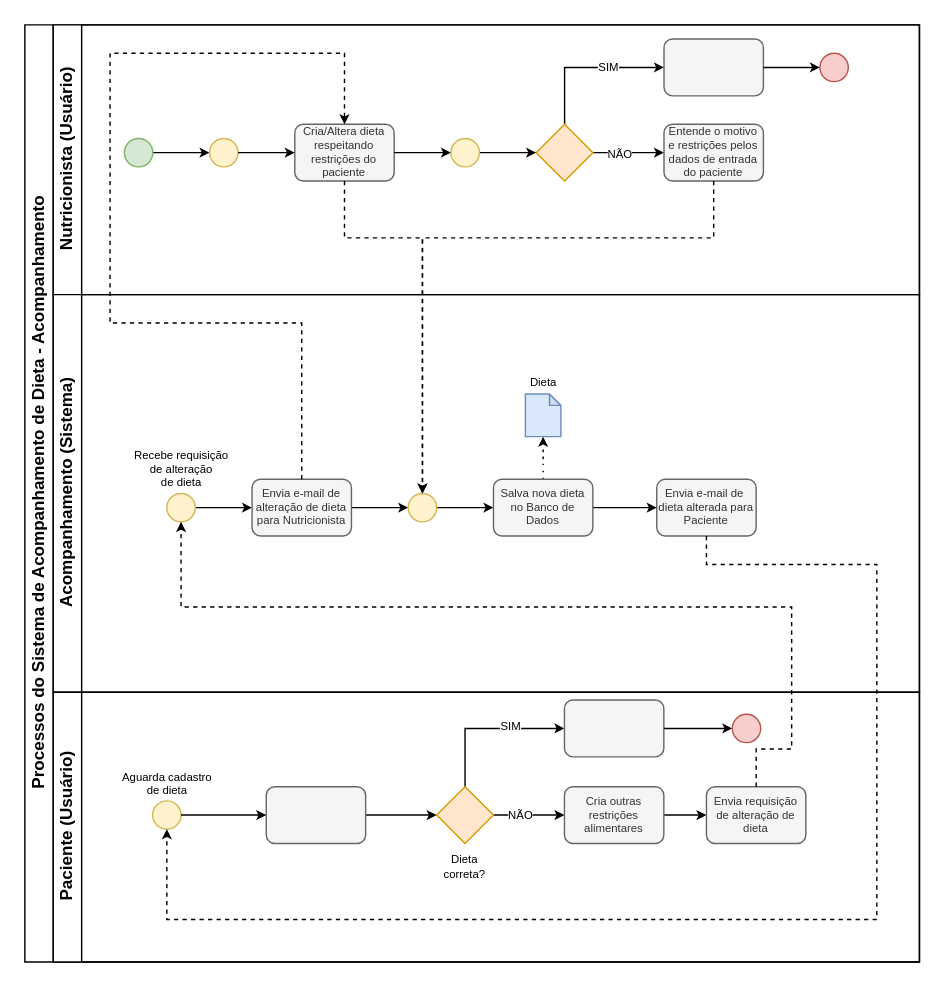
Some shapes in this 944 by 987 pixel diagram are drawn without their labels. Here are the shapes that lost their labels. From the top down, the centre of each, then its label:
At pixel 713 67: "Mantêm a dieta".
At pixel 223 152: "Aguarda consulta".
At pixel 464 152: "Acompanha dados de entrada do paciente pelo App".
At pixel 564 152: "Seguiu a dieta?".
At pixel 422 507: "Aguarda criação/alteração de dieta".
At pixel 613 728: "Confirma recebimento da dieta".
At pixel 315 814: "Acessa a dieta criada pelo Nutricionista".
